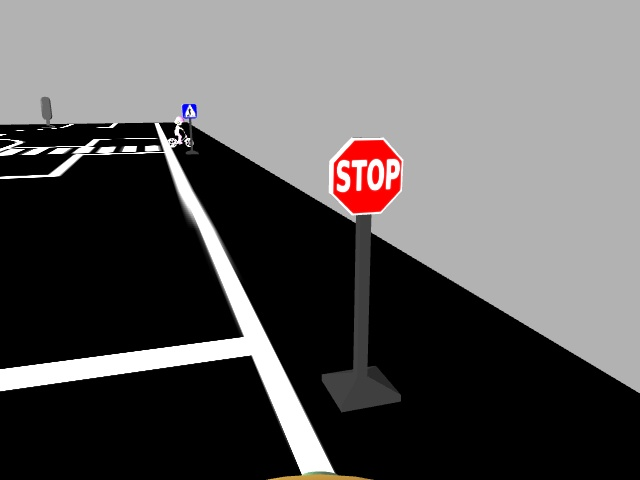Stop: (325, 134, 405, 216)
